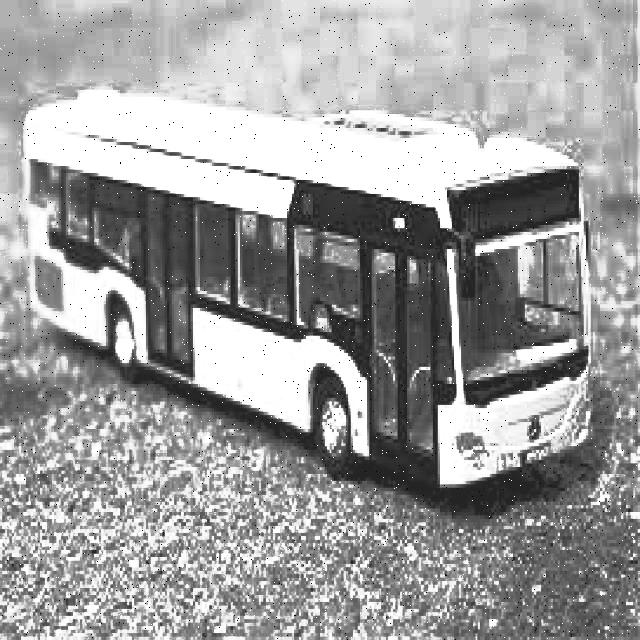Bus: (13, 66, 611, 542)
